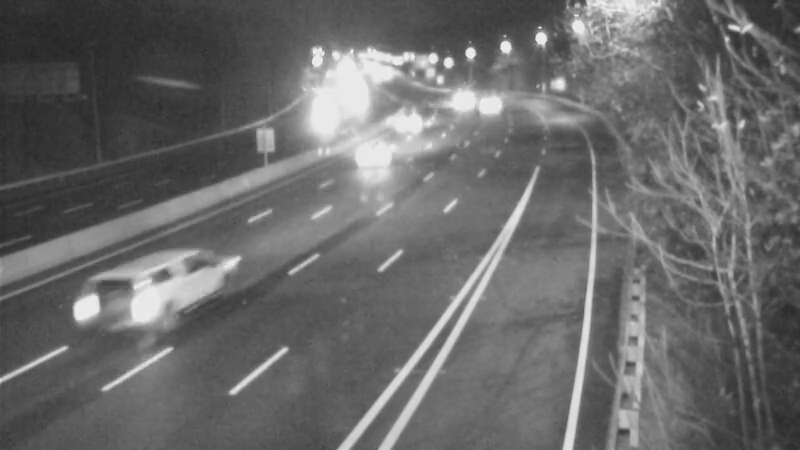vehicle: (65, 246, 175, 356), (335, 114, 415, 194), (434, 73, 484, 123), (457, 77, 507, 127), (388, 93, 438, 143)
